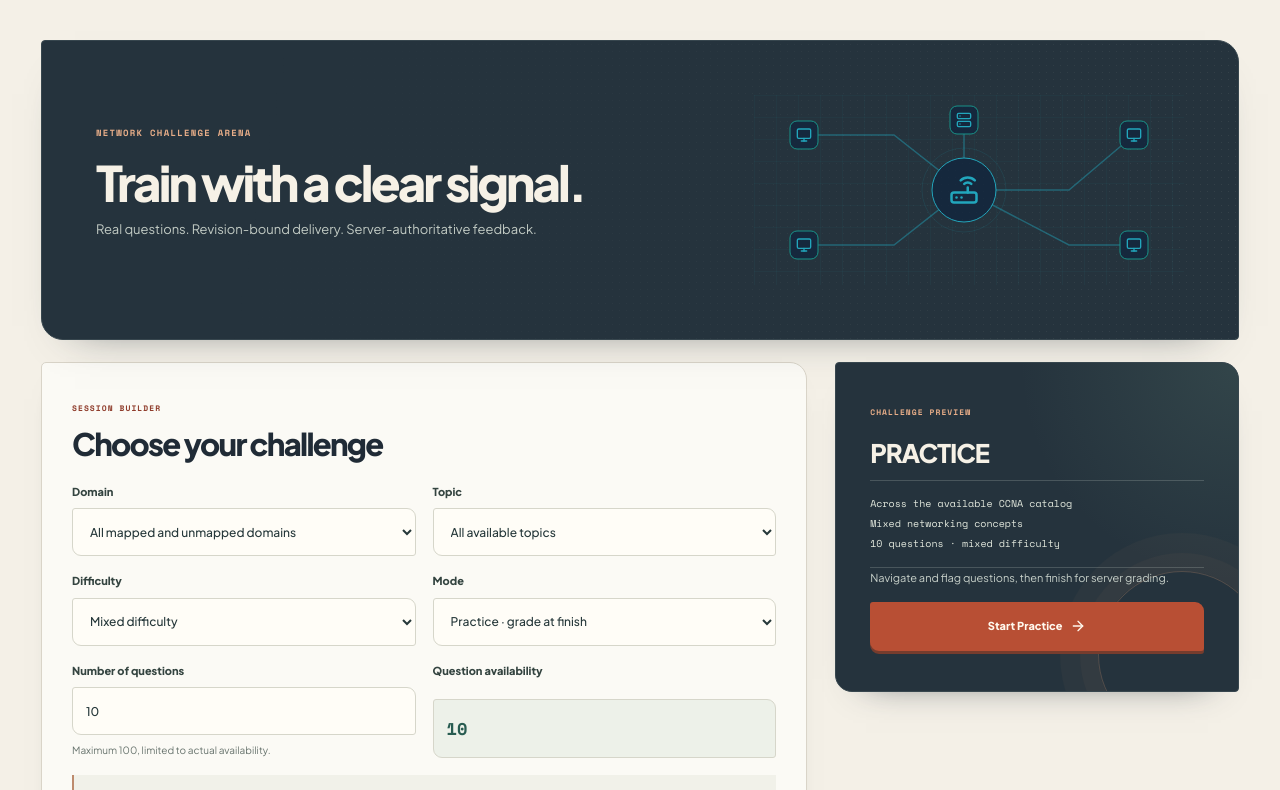
it: flagging saves only the owned question state without grading
Later steps or results of the test are not shown.
Click the button "Start Practice": (1037, 626) [870,602,1204,651]
(page scrolled)
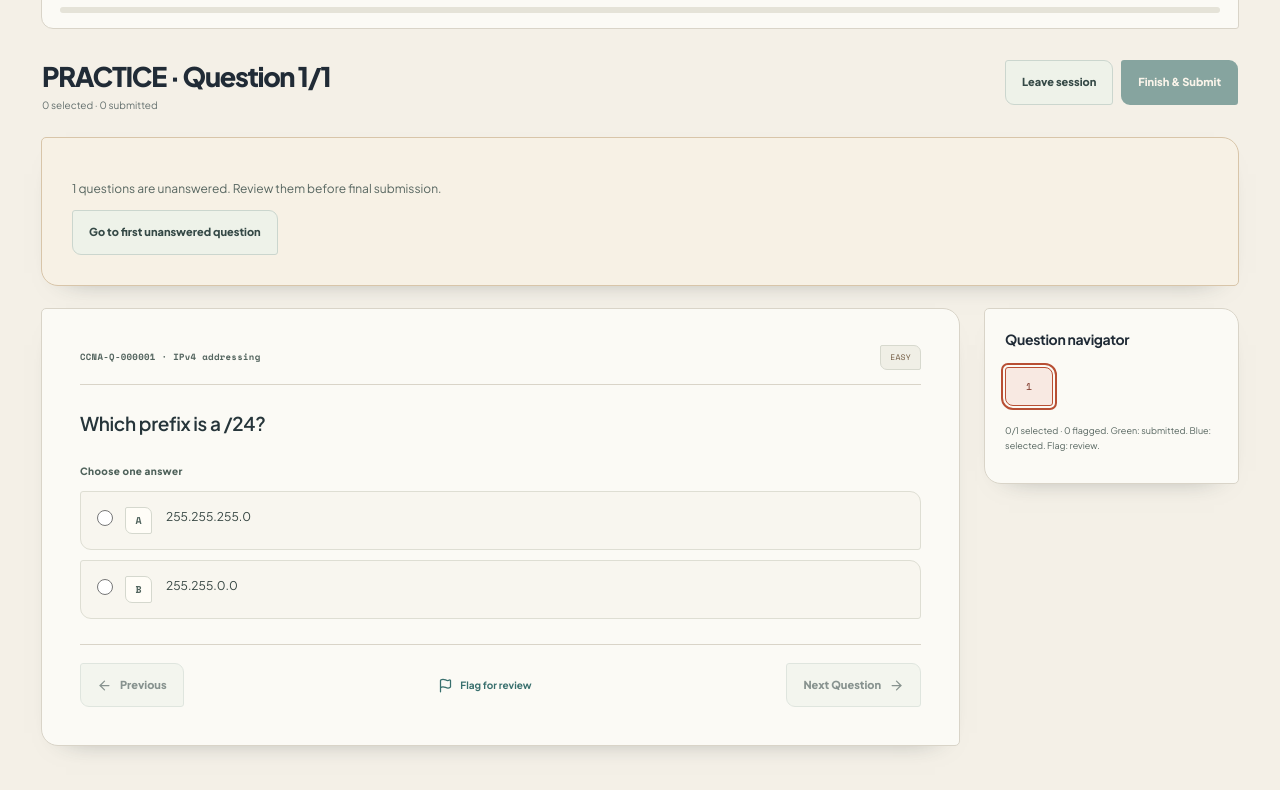
Result: the button "Flag for review" is shown at [429,664,541,706]
